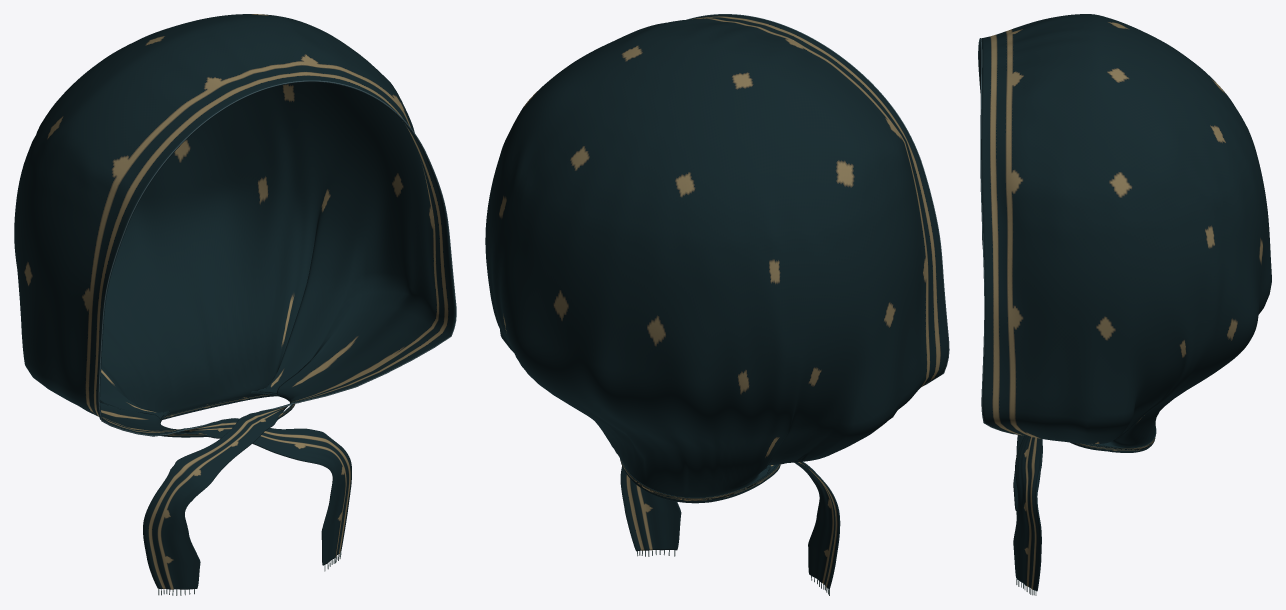
Rendered from Masculine-taper-tank-pashmina249-headgear.glb.
3 renders of one model, left to right at view 1: azimuth 30°, elevation 25°; view 2: azimuth 150°, elevation 25°; view 3: azimuth 270°, elevation 25°, orthographic. The views are drawn at different scales.
Parts seen in each view (by area): view 1: 226 headgear / Headwear / continuous woven pashmina239, 226 headgear / Headwear / face edge239; view 2: 226 headgear / Headwear / continuous woven pashmina239, 226 headgear / Headwear / face edge239; view 3: 226 headgear / Headwear / continuous woven pashmina239, 226 headgear / Headwear / face edge239.
Boxes of the visible parts, left/top/right/bottom form: 226 headgear / Headwear / continuous woven pashmina239: left=14, top=14, right=455, bottom=589; 226 headgear / Headwear / face edge239: left=98, top=80, right=456, bottom=436; 226 headgear / Headwear / continuous woven pashmina239: left=485, top=14, right=948, bottom=589; 226 headgear / Headwear / face edge239: left=687, top=14, right=949, bottom=386; 226 headgear / Headwear / continuous woven pashmina239: left=978, top=14, right=1271, bottom=591; 226 headgear / Headwear / face edge239: left=978, top=38, right=1016, bottom=434.
Bounding box in the file's own units: 1.03 × 1.41 × 0.7255.
Materials: 3 (1 with a texture image).
